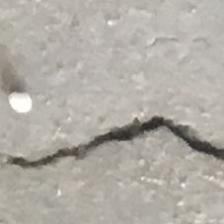Crack: (5, 113, 224, 189)
